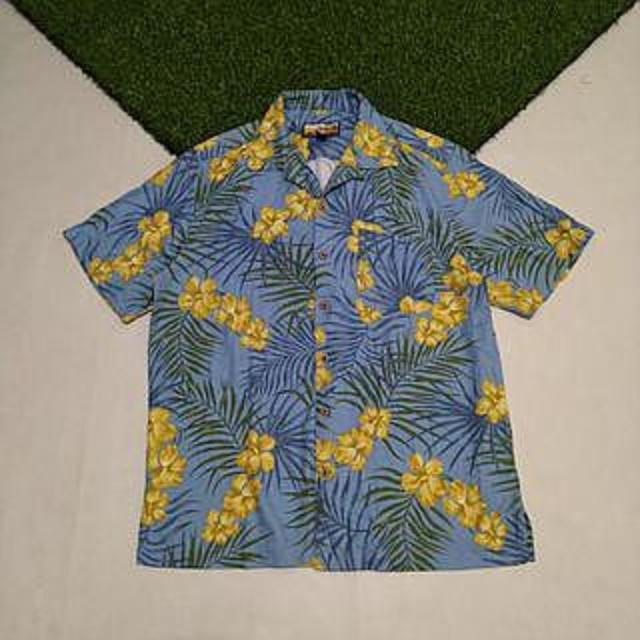SHIRT: (48, 87, 603, 579)
